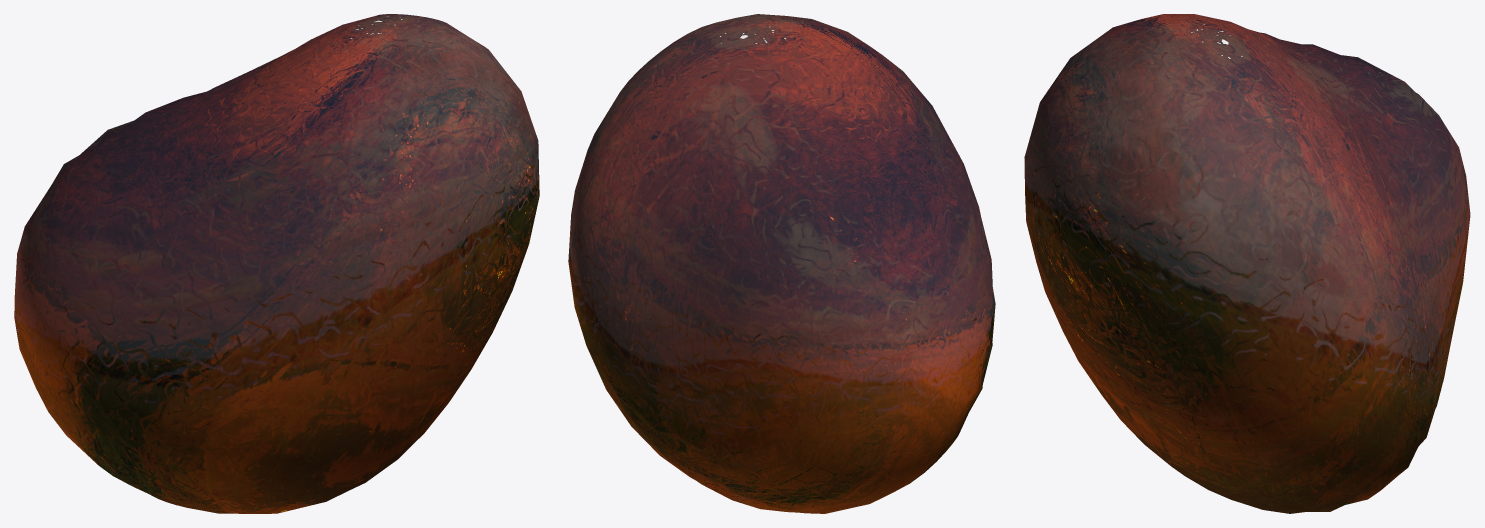
File: Amber.fbx
3 views of the same model, side by side, from view 1: azimuth 30°, elevation 25°; view 2: azimuth 150°, elevation 25°; view 3: azimuth 270°, elevation 25° (orthographic). The views are drawn at different scales.
Parts seen in each view (by area): view 1: Sphere.002; view 2: Sphere.002; view 3: Sphere.002.
Boxes of the visible parts, box(x1,y1,x2,y2) form: Sphere.002: box(14, 14, 539, 513); Sphere.002: box(568, 14, 995, 513); Sphere.002: box(1024, 14, 1470, 513).
Size of the model in its own units: 141 by 145 by 118.
1 material, 1 textured.
